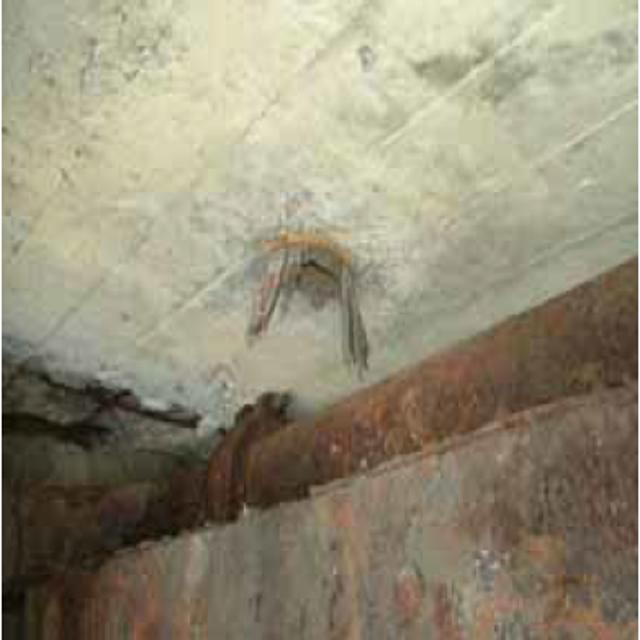corrosion: (260, 267, 640, 513)
spalling: (16, 348, 224, 473)
